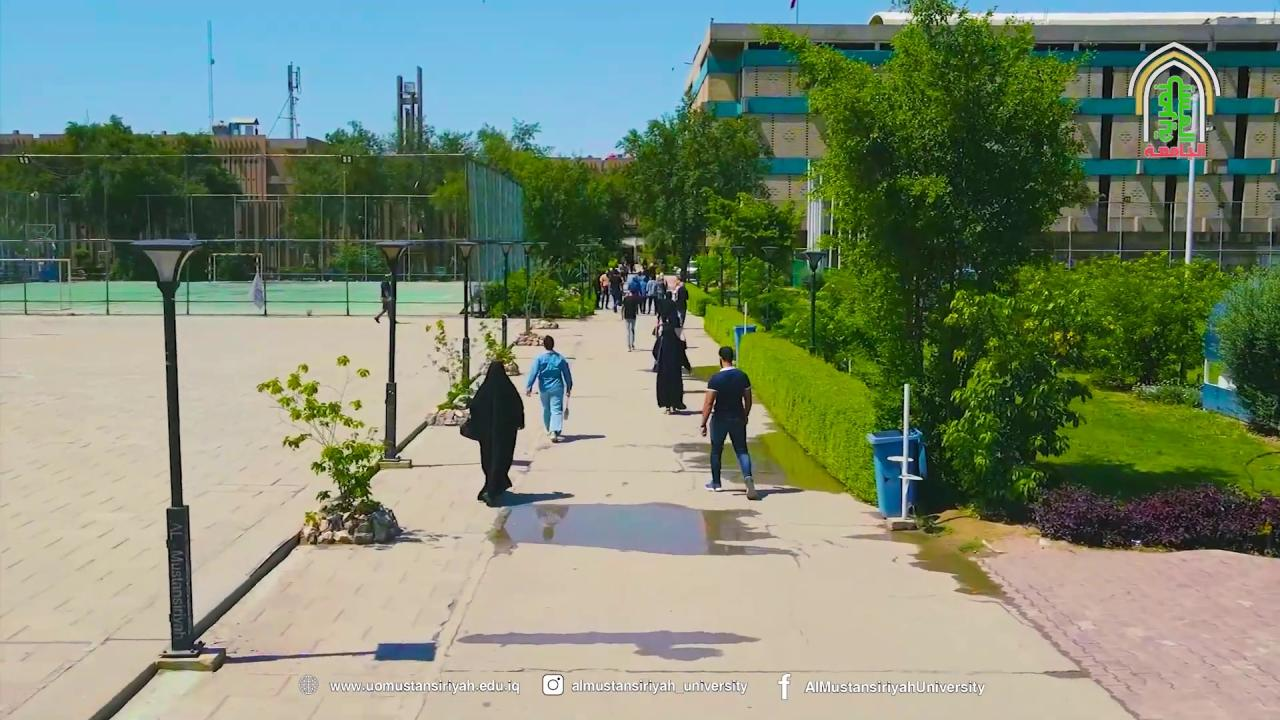person: (460, 359, 525, 504), (700, 345, 760, 500), (524, 334, 572, 442), (651, 291, 691, 414), (621, 288, 640, 351)
tree: (752, 0, 1102, 516), (930, 248, 1244, 518), (3, 112, 245, 280), (614, 87, 768, 286), (933, 347, 1092, 521), (256, 353, 391, 536), (1070, 249, 1238, 388), (475, 121, 610, 282), (698, 187, 803, 323), (1202, 261, 1278, 434), (423, 318, 522, 421), (480, 265, 575, 331)
